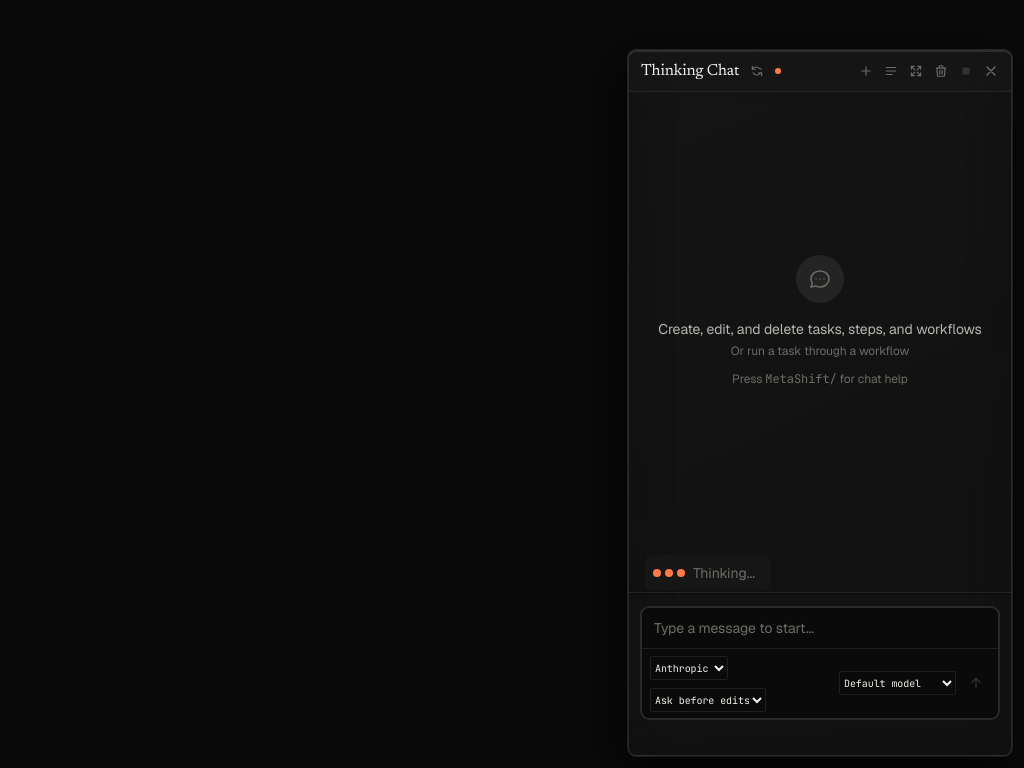
Test: ChatWindowManager › projects live thinking and compaction state onto the matching history rows
(page scrolled)
Click the button named "Widen chat panel": (916, 71) [904,59,928,83]
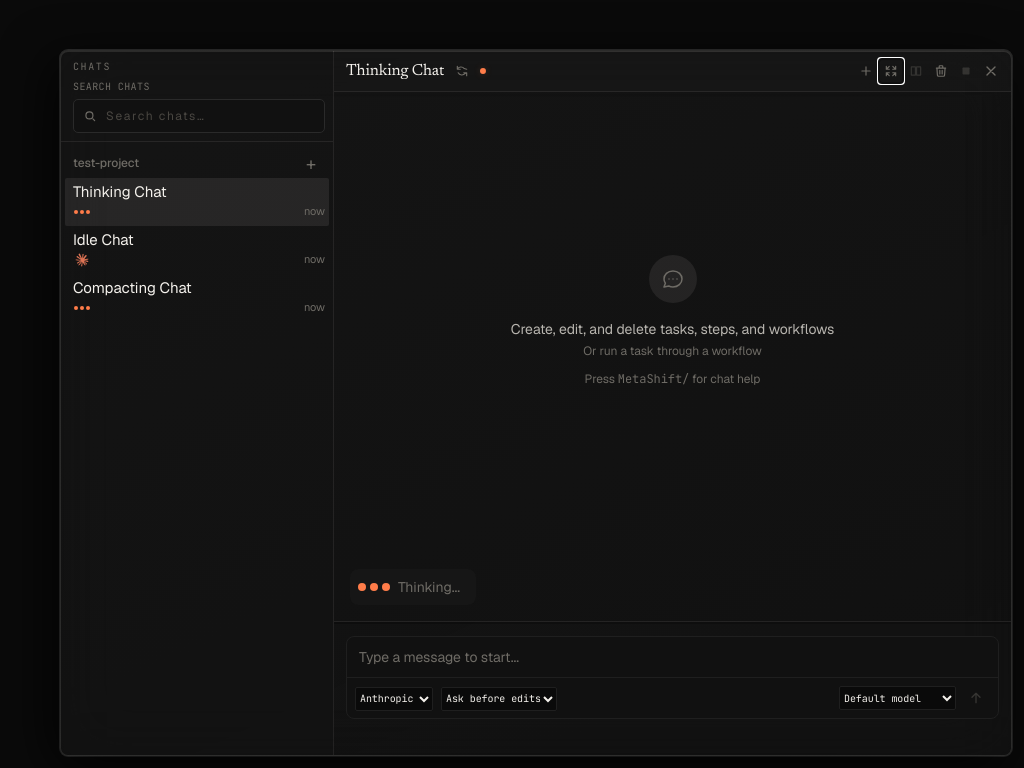
Expected: the element named "Thinking..." is shown, [74,210,90,214]
Expected: the element named "Compacting conversation…" is shown, [74,306,90,310]
Expected: the picture named "Claude harness" is shown, [73,251,91,269]
